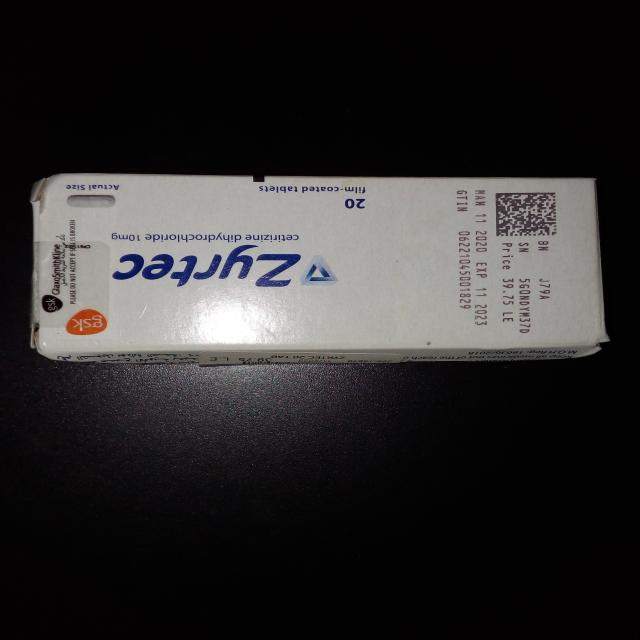Medicine: (28, 167, 614, 369)
